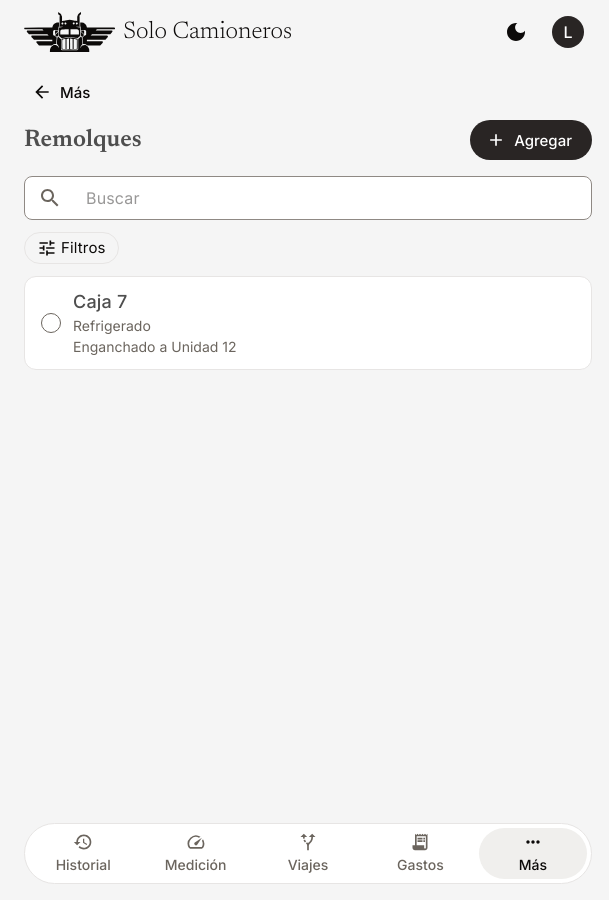
Test: trailers show the truck they are hitched to; tanks their shape and equipment
Expected: the button with aria-label "Remolque Caja 7" shows "Enganchado a Unidad 12", [24, 276, 592, 370]
Click the button "Más".
click(63, 92)  # box [16, 72, 110, 112]
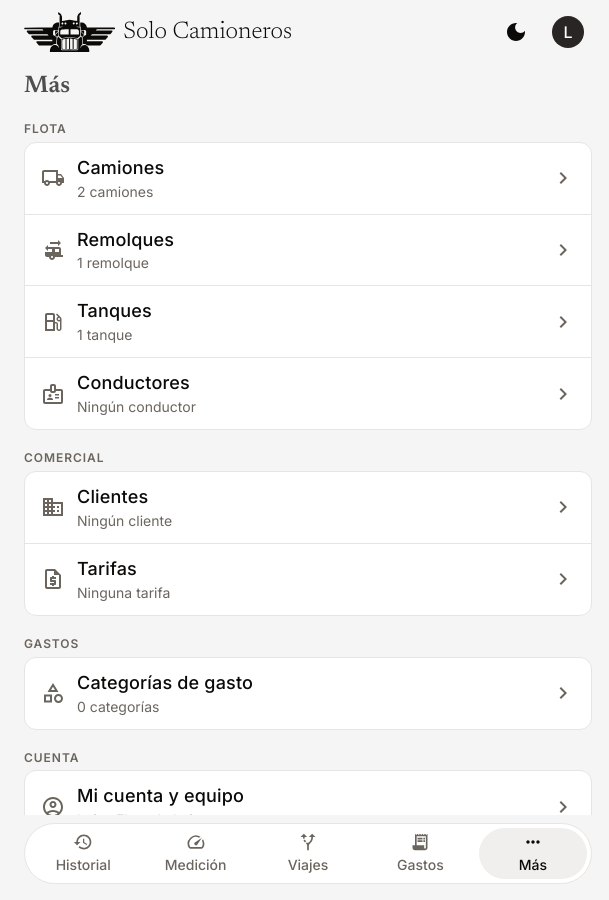
Click the link "Tanques 1 tanque".
click(114, 311)  # box [25, 286, 591, 357]
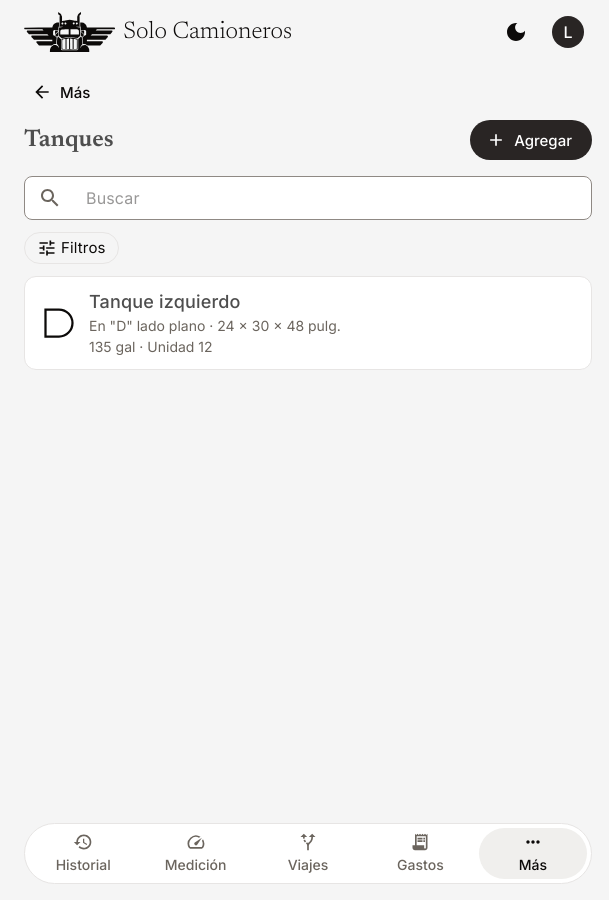
Expected: the heading "Tanques" is shown, [24, 126, 114, 154]
